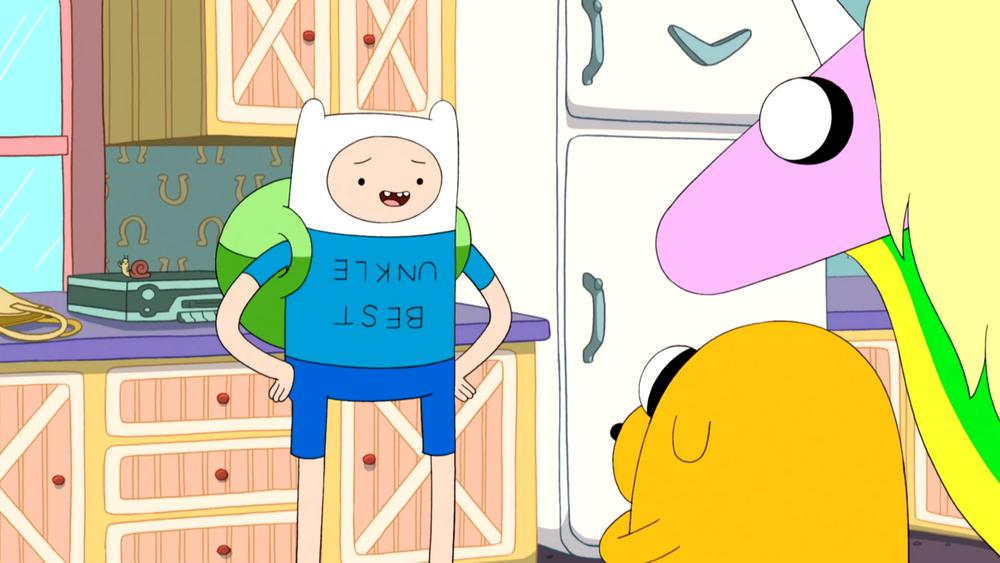snail: (115, 254, 153, 280)
